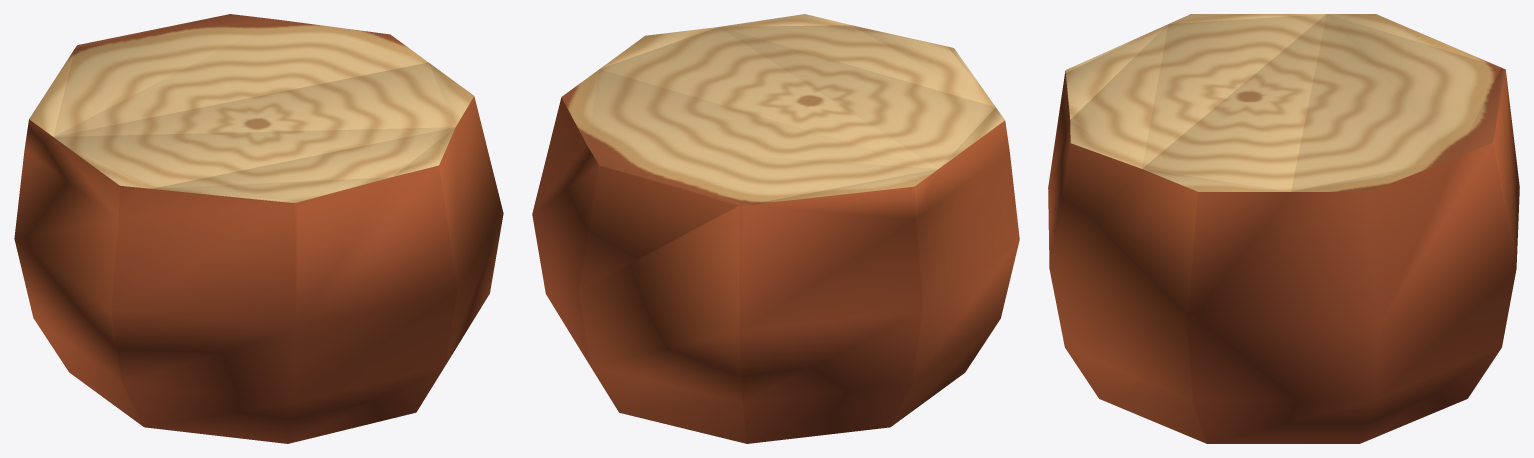
The model's file is tree_3_b_stump.glb.
3 renders of one model, left to right at view 1: azimuth 30°, elevation 25°; view 2: azimuth 150°, elevation 25°; view 3: azimuth 270°, elevation 25°, orthographic. The views are drawn at different scales.
Visible parts, largest first — view 1: tree_3_b_stump; view 2: tree_3_b_stump; view 3: tree_3_b_stump.
Part boxes in pixels (x1,y1,x2,y2): tree_3_b_stump: (14,14,503,443); tree_3_b_stump: (532,14,1019,443); tree_3_b_stump: (1048,14,1519,443).
Bounding box in the file's own units: 1.21 × 0.9104 × 1.24.
Materials: 2 (2 with a texture image).
